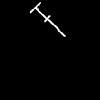double_crochet: (30, 3, 64, 35)
